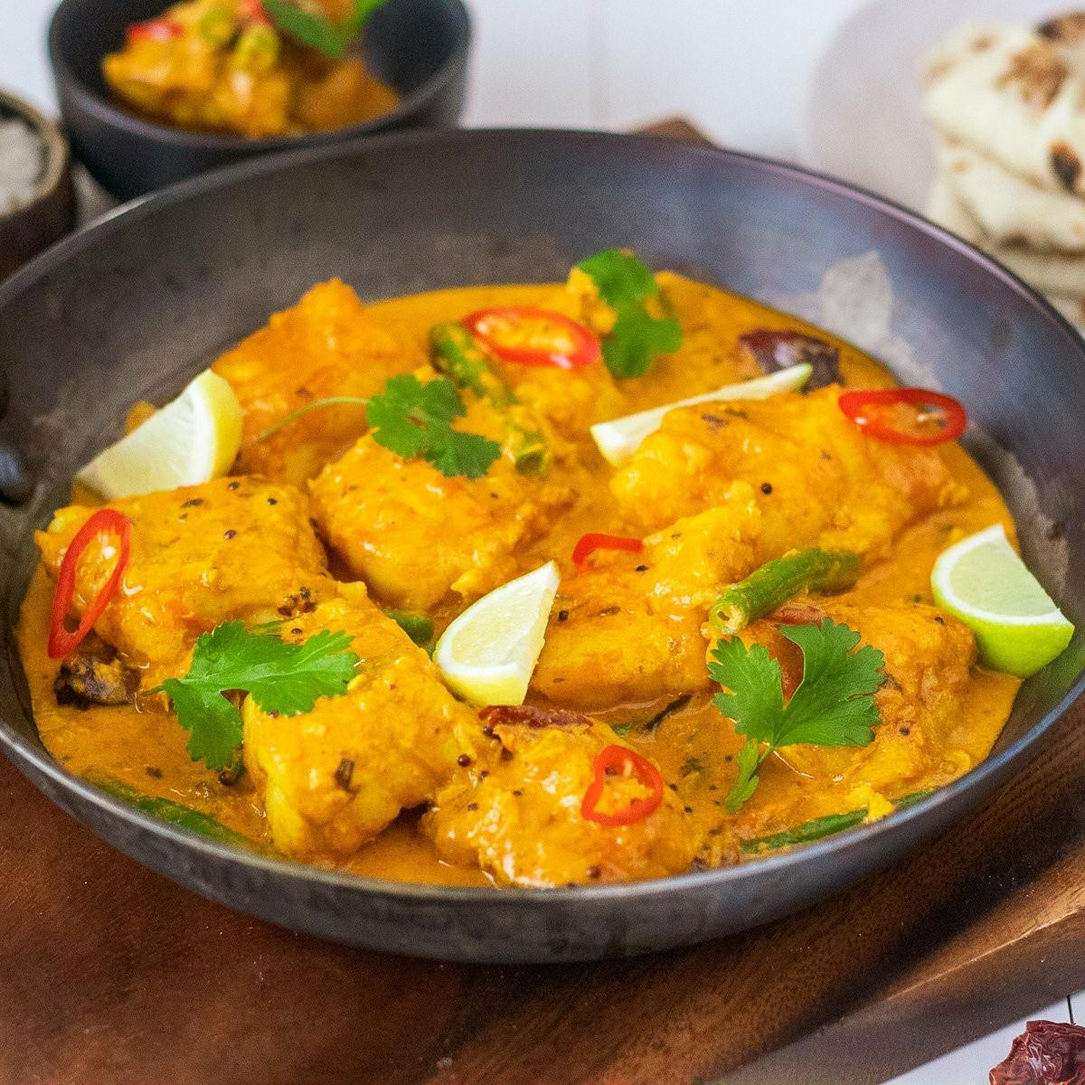FishCurry: (14, 253, 1079, 834), (97, 0, 397, 135)
